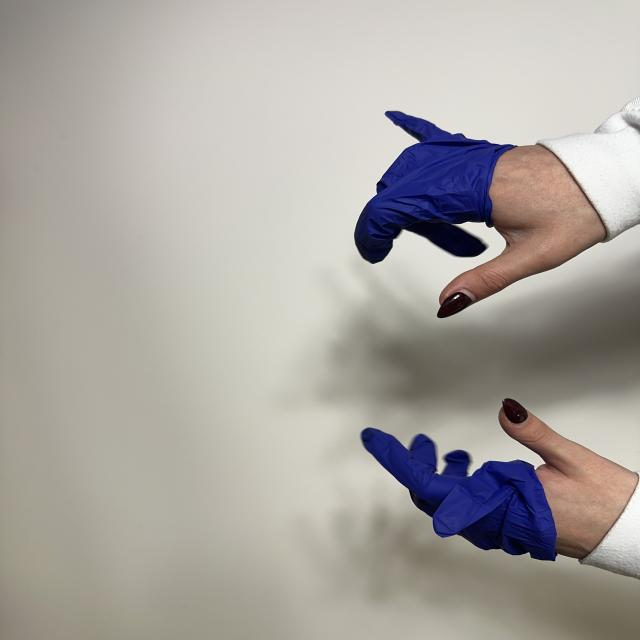glove_partial: (355, 112, 605, 318), (362, 398, 638, 560)
